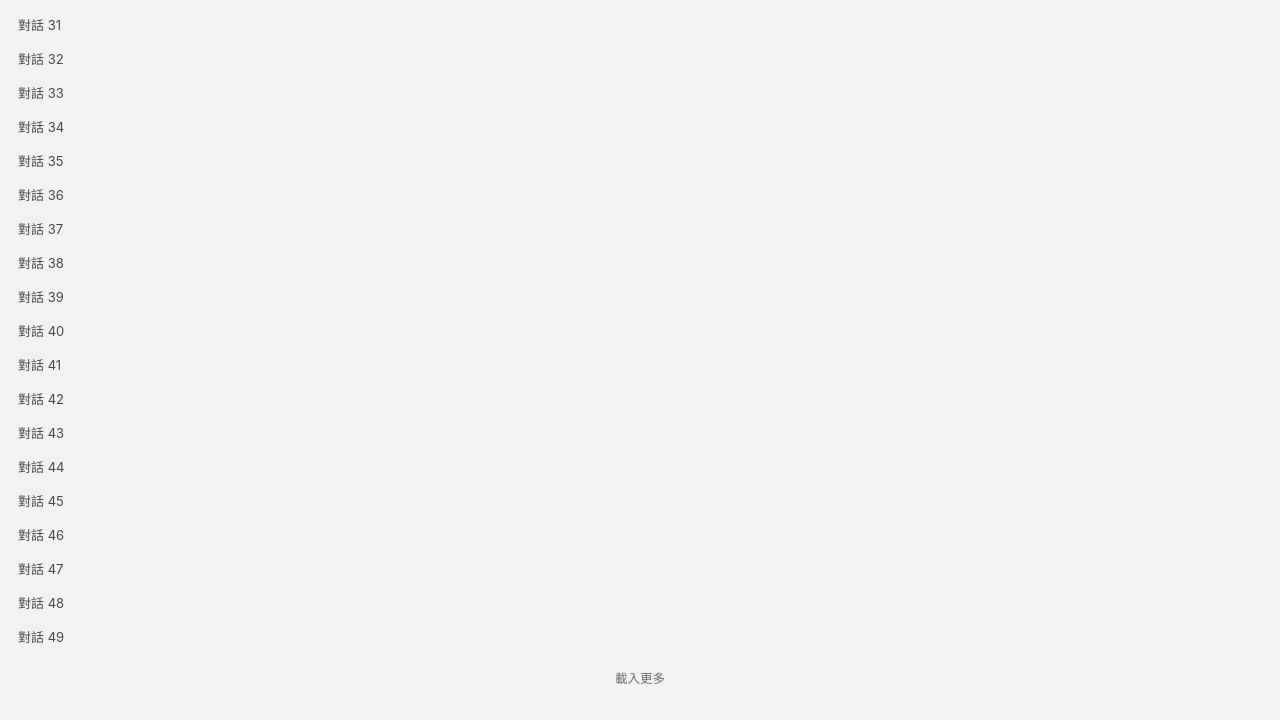
Test: 這一頁是滿的才出現「載入更多」，按下後以 offset 接續並累加
The width and height of the screenshot is (1280, 720).
(page scrolled)
Step 1. Click the button "載入更多" → (640, 678), box [8,661,1272,694]
(page scrolled)
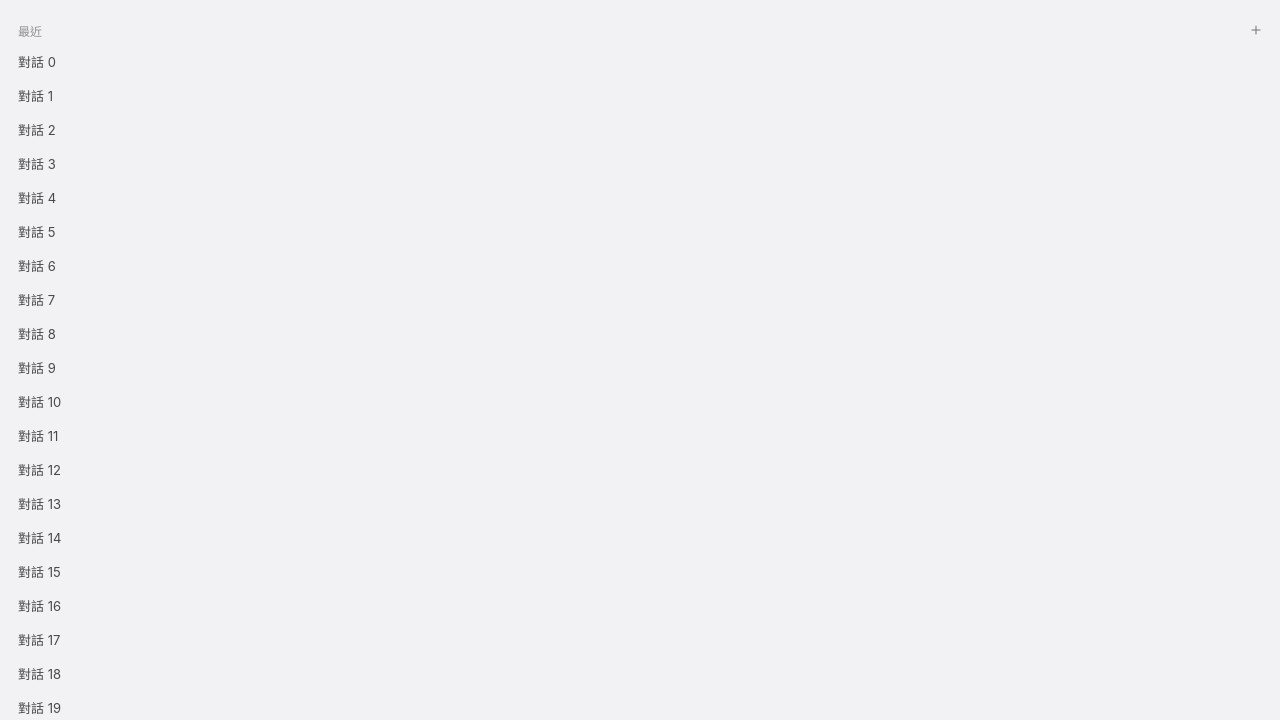
Expected: the link "對話 0" is shown, [18,54,56,70]
Expected: the button "載入更多" is gone
